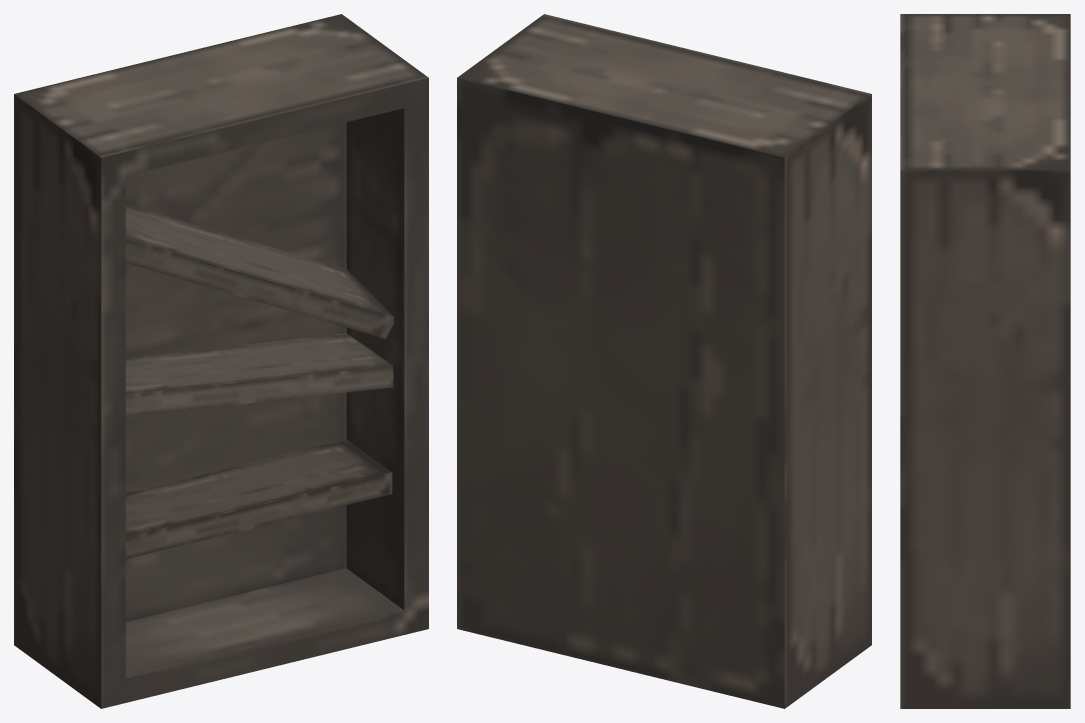
The model's file is brokenBooKSHLF2.fbx.
3 views of the same model, side by side, from view 1: azimuth 30°, elevation 25°; view 2: azimuth 150°, elevation 25°; view 3: azimuth 270°, elevation 25° (orthographic). The views are drawn at different scales.
Visible parts, largest first — view 1: BrokenBookSHLF2; view 2: BrokenBookSHLF2; view 3: BrokenBookSHLF2.
Part boxes in pixels (<box>): BrokenBookSHLF2: <box>14,14,428,708</box>; BrokenBookSHLF2: <box>457,14,871,708</box>; BrokenBookSHLF2: <box>900,14,1070,708</box>.
Bounding box in the file's own units: 1101 × 1770 × 507.
